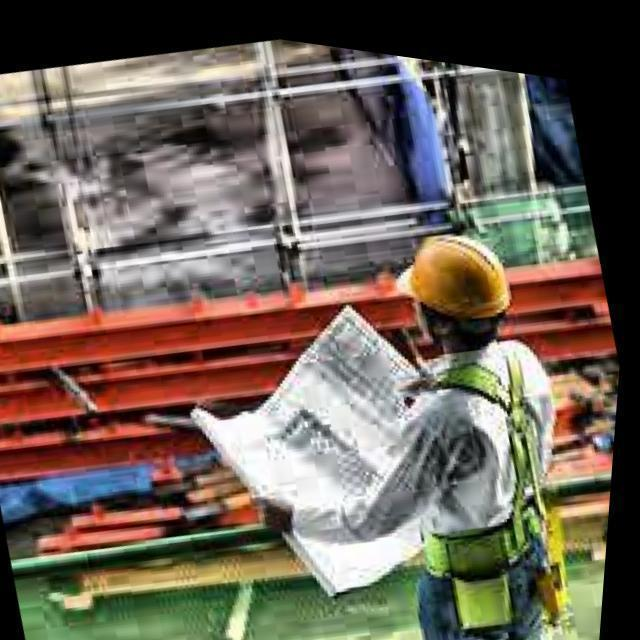Harness: (439, 351, 548, 528)
